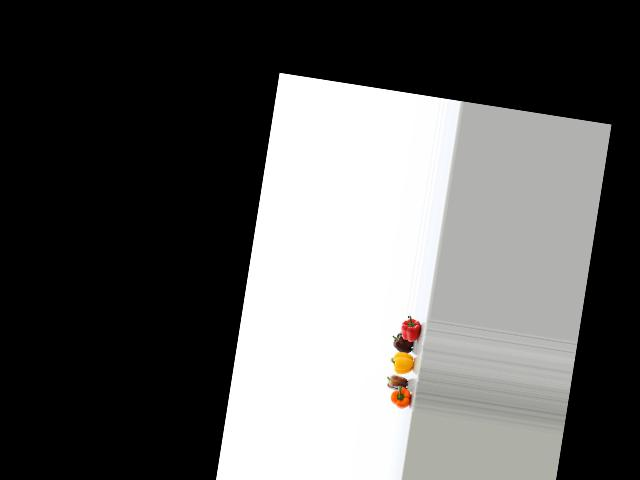bell_pepper: (382, 384, 415, 410)
